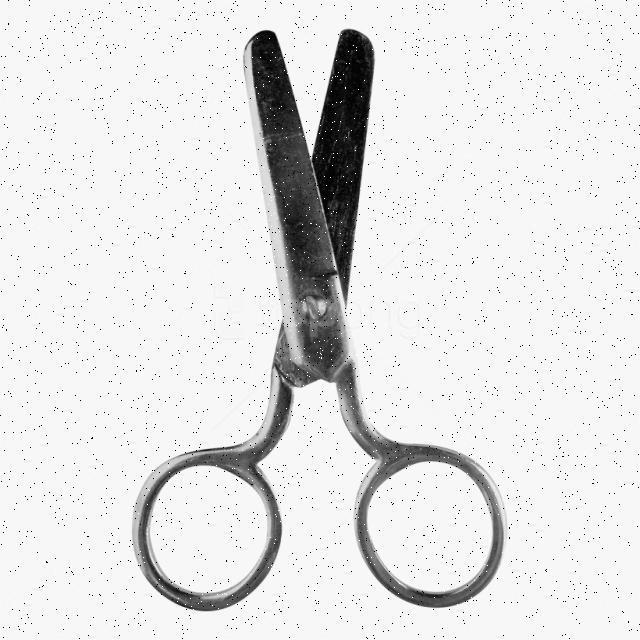scissors: (119, 20, 512, 613)
